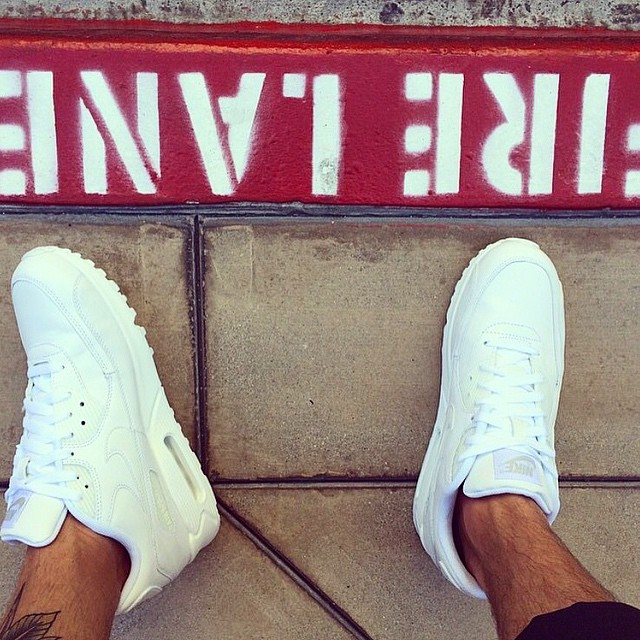sneaker: (1, 231, 241, 625), (391, 217, 584, 609)
